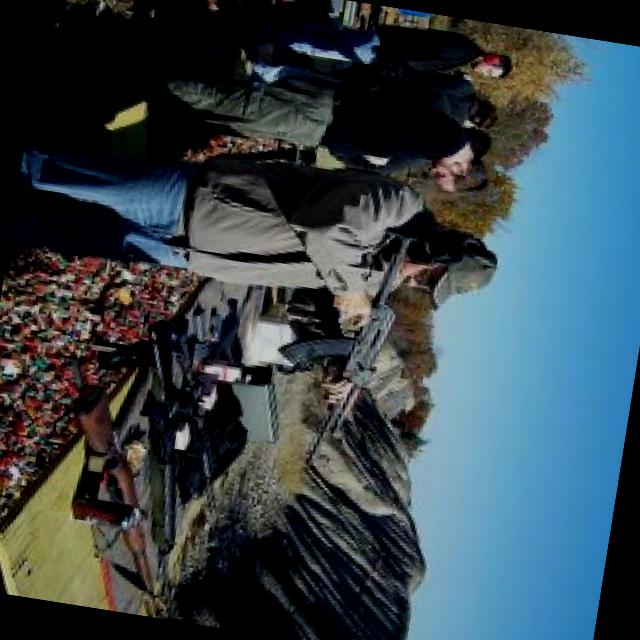long weapon: (292, 211, 410, 507)
